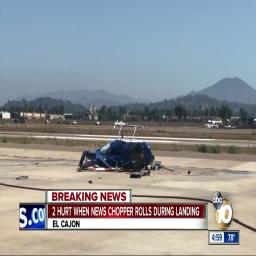helicopter: (76, 118, 166, 182)
